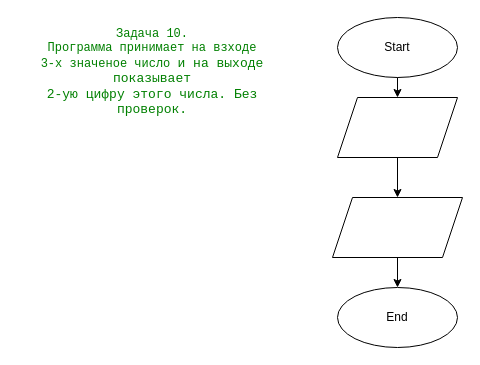
Image size: 480x365. Some labels were removed from this diagram. Here are the shapes that lost their labels. From the top down, the centre of each, then its label:
the point at 397,127: Input: strDigit
the point at 397,227: Output" strDigit[1]
